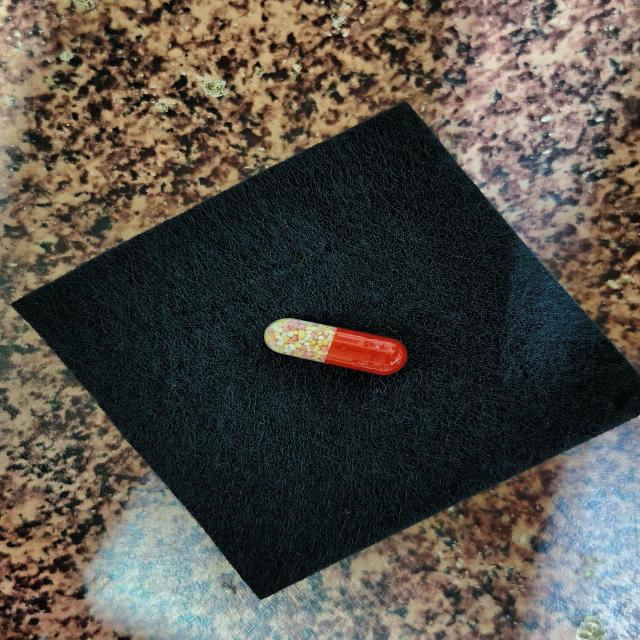Intact Capsule: (264, 318, 407, 375)
